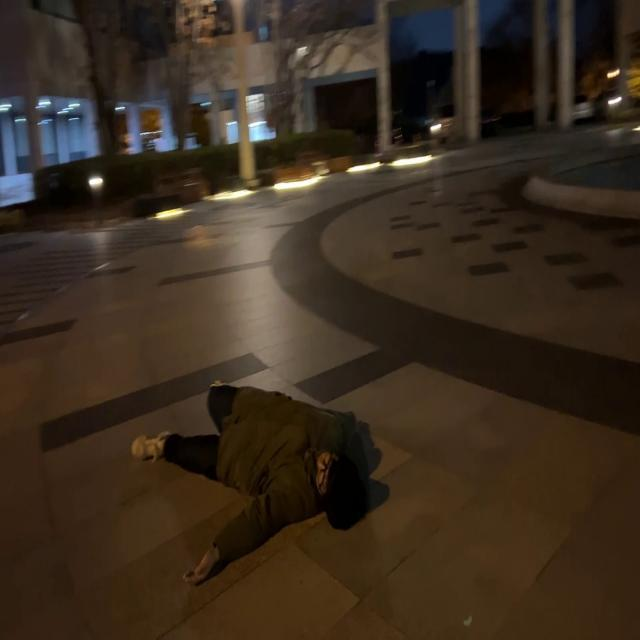Fall: (132, 385, 369, 586)
